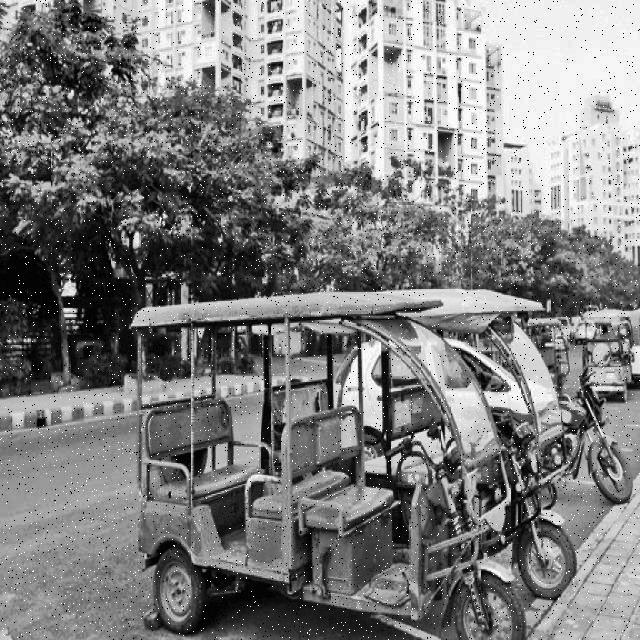Toto: (130, 292, 563, 640)
